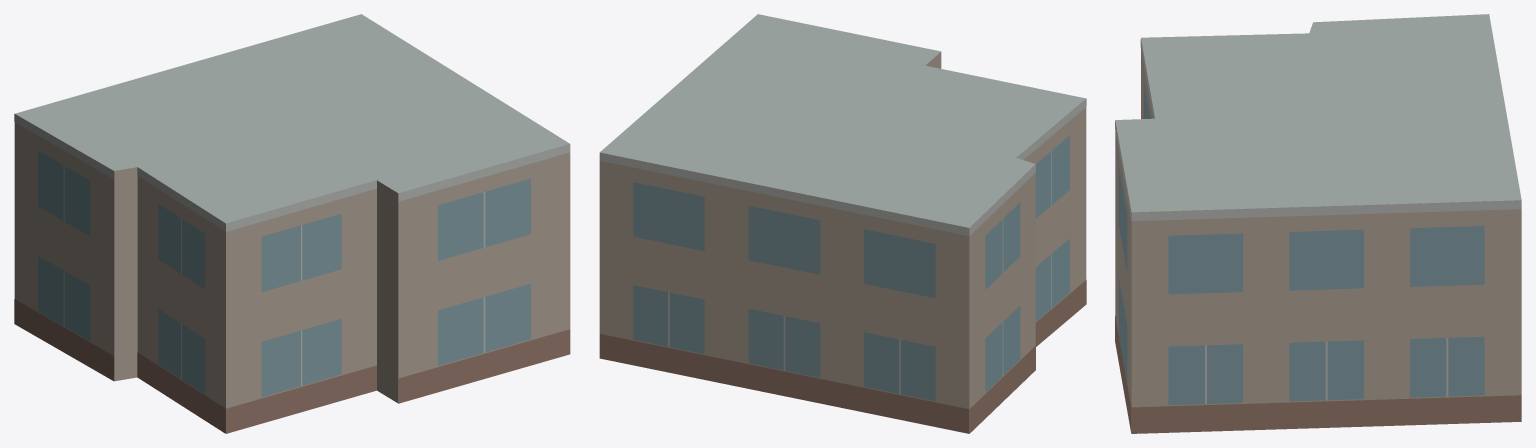
The model's file is survey-upis-32800910.glb.
3 views of the same model, side by side, from view 1: azimuth 30°, elevation 25°; view 2: azimuth 150°, elevation 25°; view 3: azimuth 270°, elevation 25° (orthographic). The views are drawn at different scales.
Visible parts, largest first — view 1: survey-upis-32800910.tmp; view 2: survey-upis-32800910.tmp; view 3: survey-upis-32800910.tmp.
Boxes of the visible parts, left/top/right/bottom form: survey-upis-32800910.tmp: left=14, top=14, right=570, bottom=433; survey-upis-32800910.tmp: left=599, top=14, right=1086, bottom=433; survey-upis-32800910.tmp: left=1115, top=14, right=1521, bottom=433.
Bounding box in the file's own units: 11.72 × 6.1 × 10.16.
